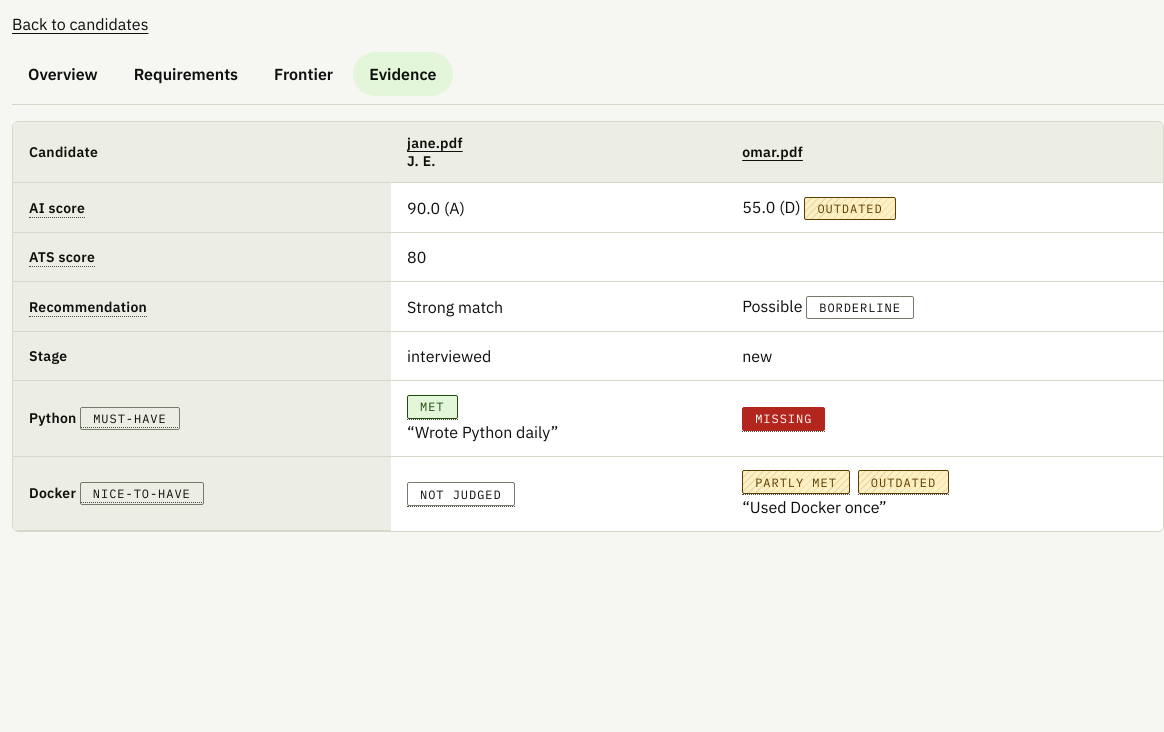
Test: side by side › explains a word on hover
Step 1. Hover over the text "ATS score" → (62, 258), box [29, 248, 95, 267]
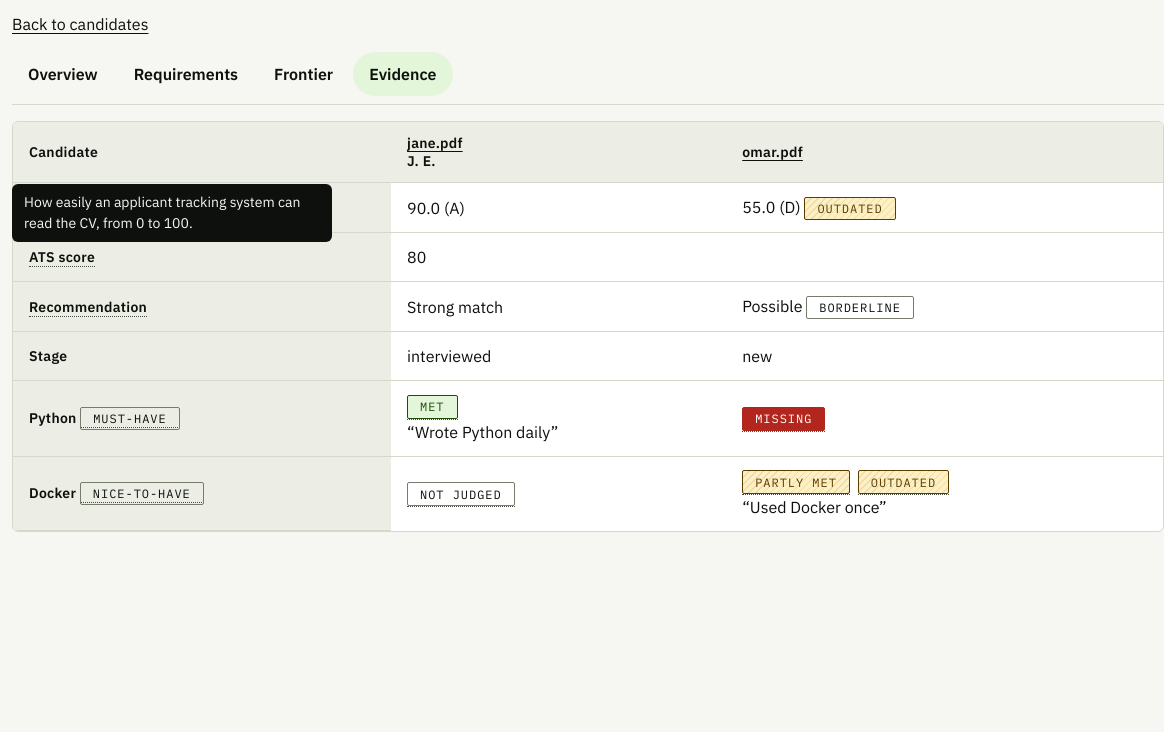
Now the tooltip shows "applicant tracking system", box [24, 193, 300, 232]
